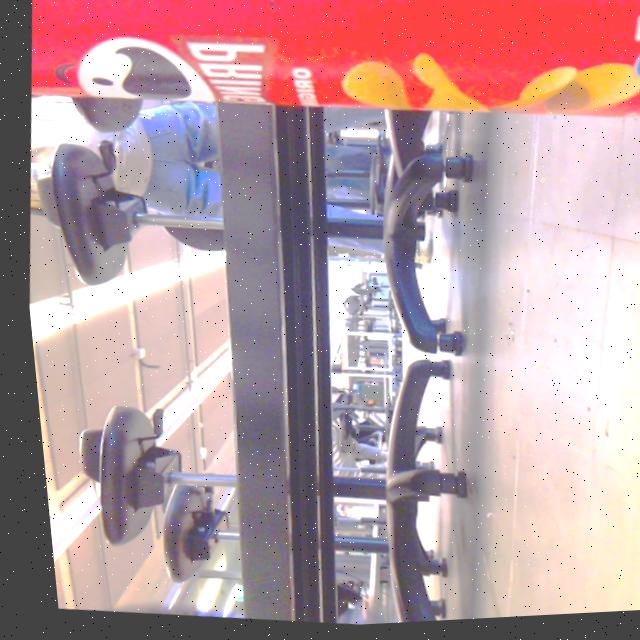redpringles: (18, 0, 640, 193)
